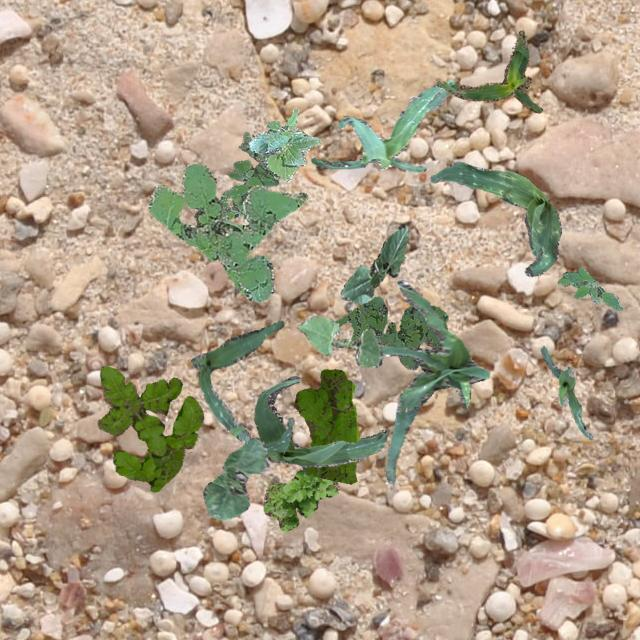crop: (378, 278, 488, 482), (430, 160, 560, 276), (311, 78, 454, 170), (253, 374, 388, 466), (188, 320, 282, 442), (436, 30, 542, 111), (202, 436, 268, 520), (247, 106, 321, 180), (339, 224, 406, 302), (540, 344, 592, 438), (296, 316, 382, 366)
weed: (148, 162, 306, 302), (96, 364, 202, 490), (334, 296, 446, 368), (292, 368, 358, 482), (220, 130, 278, 218), (262, 468, 338, 530), (556, 266, 622, 310)
